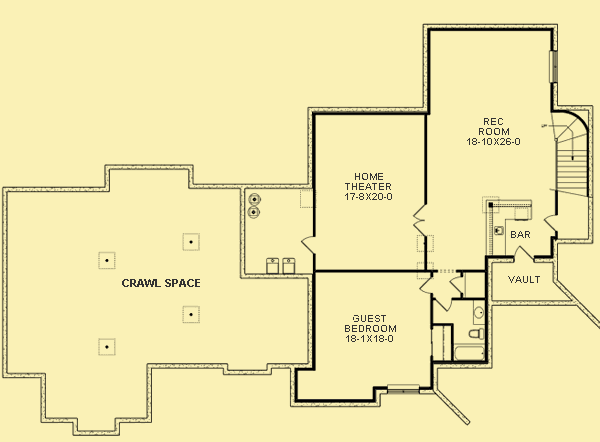door: (409, 204, 430, 240), (509, 245, 536, 267), (294, 234, 319, 256), (447, 269, 466, 295), (417, 273, 436, 296), (435, 297, 458, 316)
large_sink: (467, 324, 485, 341)
small_sink: (472, 299, 487, 325)
stairs: (547, 111, 599, 211)
tub: (452, 341, 485, 364)
window: (543, 48, 560, 84), (383, 382, 421, 395)
